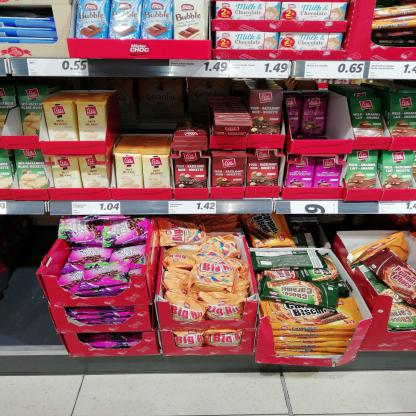prtg: (170, 60, 230, 79), (28, 59, 90, 77), (305, 62, 366, 80), (230, 62, 290, 80), (369, 62, 416, 80), (73, 203, 121, 216), (169, 202, 217, 215), (379, 202, 416, 215), (1, 203, 7, 216)
